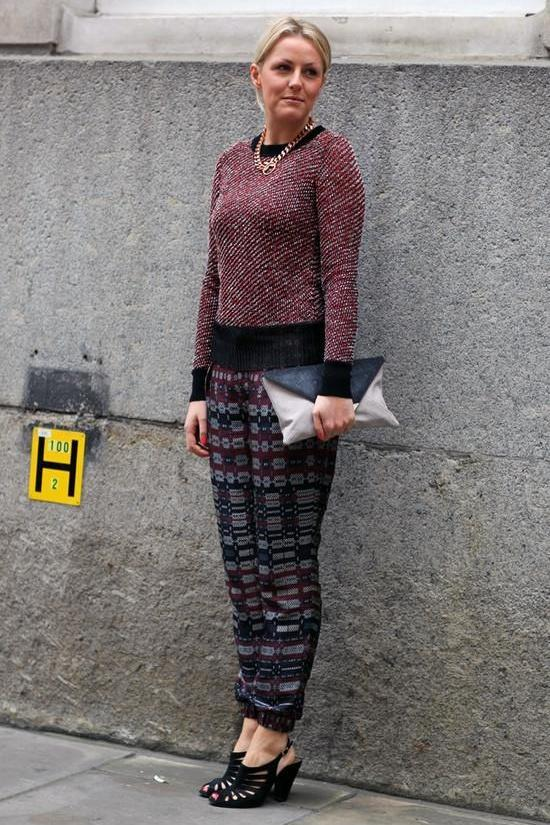pants: (206, 352, 340, 736)
sweater: (188, 123, 366, 399)
